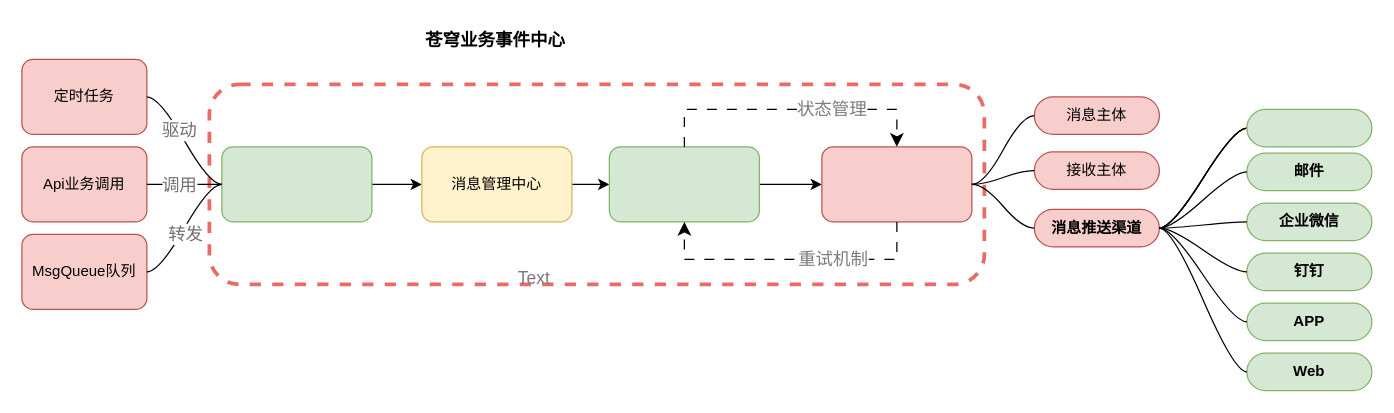
This 1394x413 diagram has some shape labels left out. The shapes that lost their labels are listed below. From the top down, each one's box as (x1, y1, x2, y2) in pixels, then its label:
(1246, 108, 1372, 147): 短信
(221, 146, 372, 222): 消息生产
(608, 146, 759, 222): 消息任务 识别or构建
(821, 146, 972, 222): 消息推送
